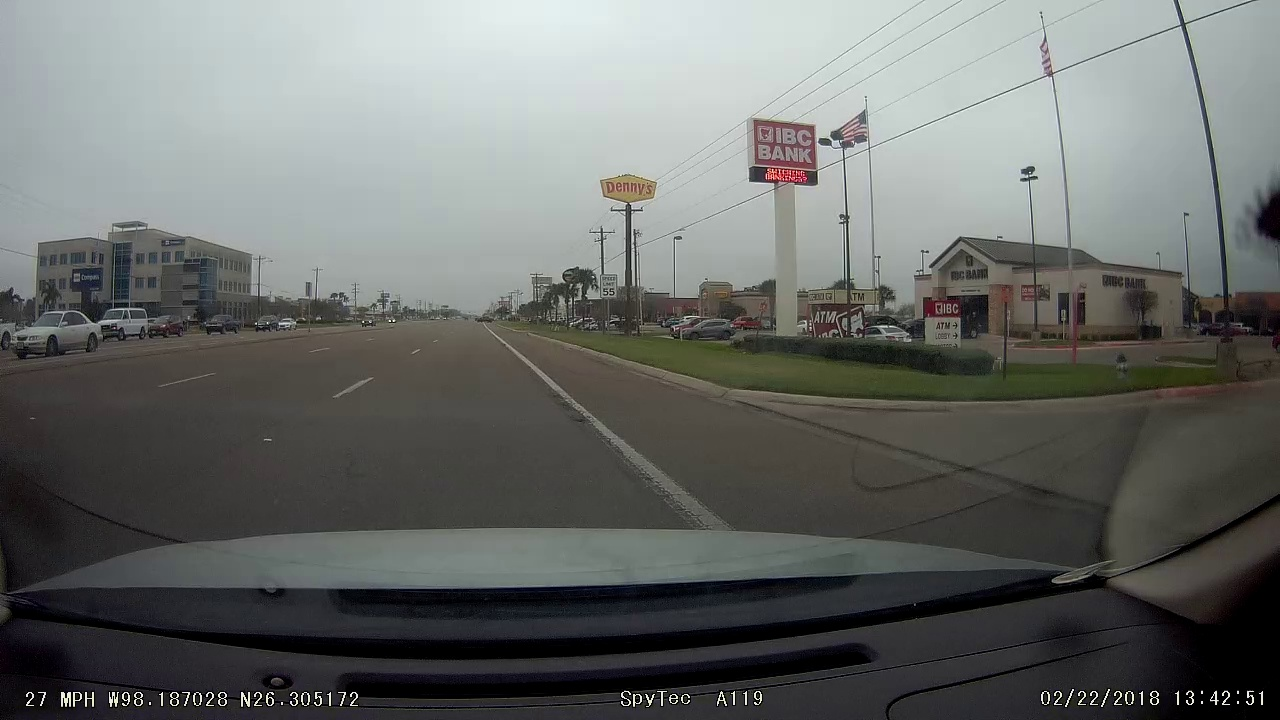alligatorCrack: (620, 442, 686, 507)
pothole: (551, 394, 589, 425)
